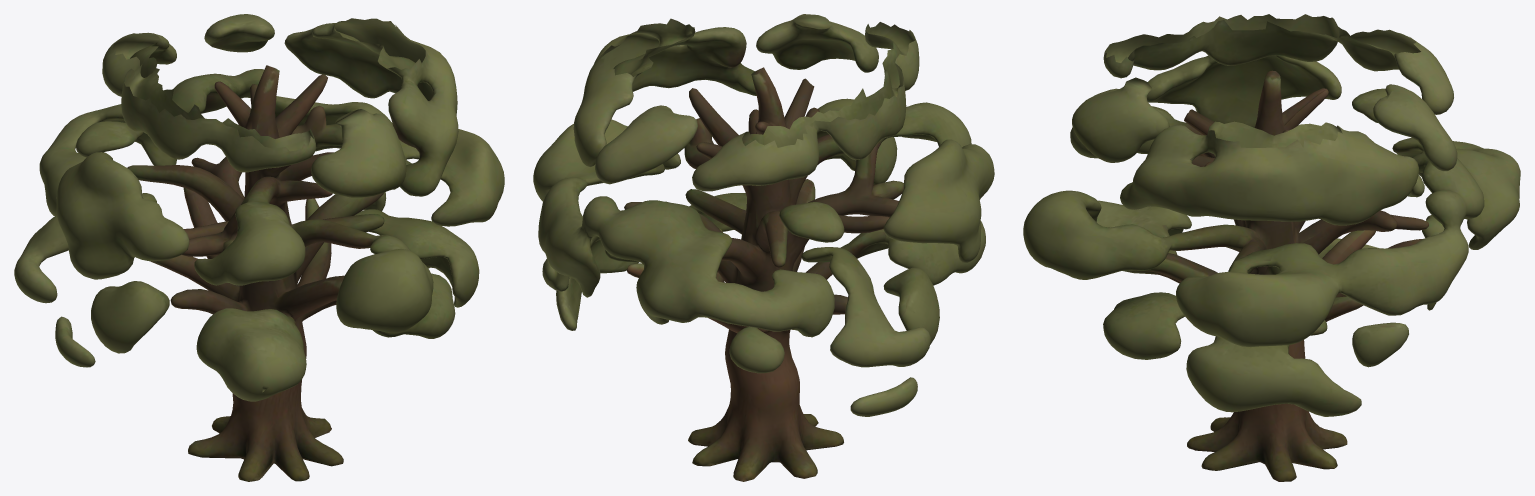
The model's file is a_large_oak_tree_b595aa57_v3.glb.
3 renders of one model, left to right at view 1: azimuth 30°, elevation 25°; view 2: azimuth 150°, elevation 25°; view 3: azimuth 270°, elevation 25°, orthographic.
Parts seen in each view (by area): view 1: material; view 2: material; view 3: material.
Part boxes in pixels (x1=…): material: x1=14, y1=14, x2=504, y2=481; material: x1=533, y1=14, x2=994, y2=481; material: x1=1023, y1=14, x2=1520, y2=481.
Bounding box in the file's own units: 1.86 × 1.61 × 1.9.
Materials: 1 (1 with a texture image).
